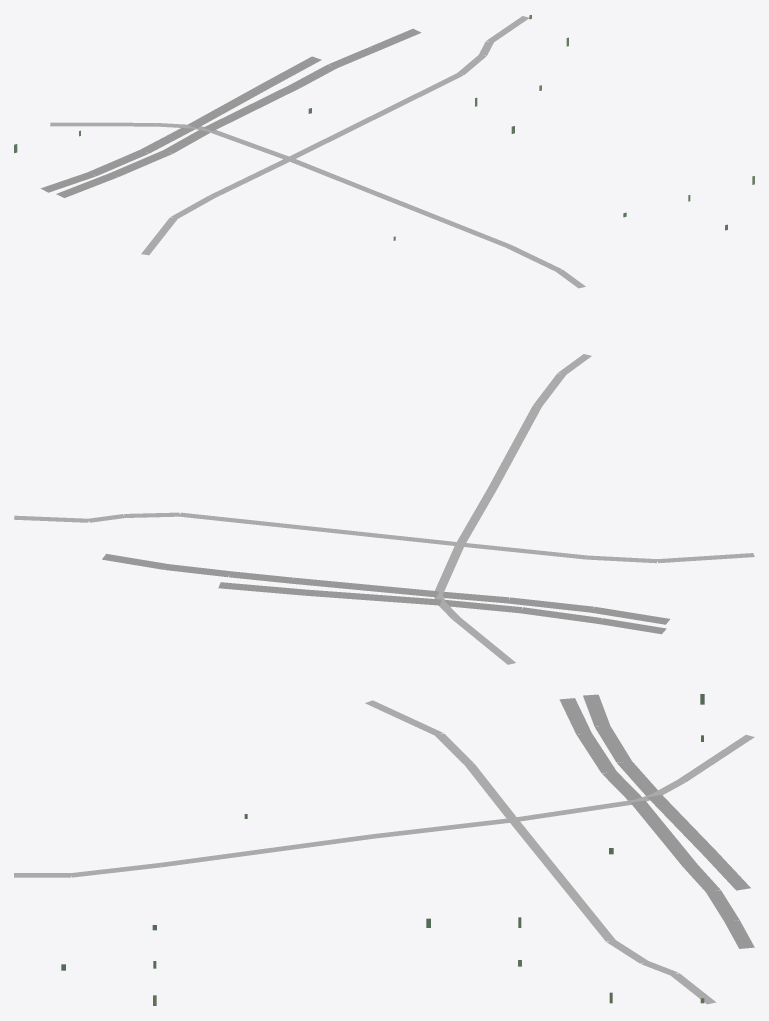
3 views of the same model, one above another, from view 1: azimuth 30°, elevation 25°; view 2: azimuth 150°, elevation 25°; view 3: azimuth 270°, elevation 25° (orthographic). The views are drawn at different scales.
Size of the model in its own units: 498 by 15.57 by 487.
